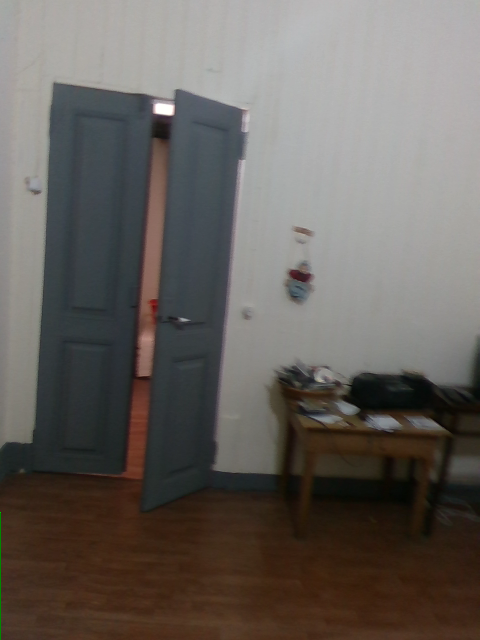semi: (32, 83, 240, 515)
